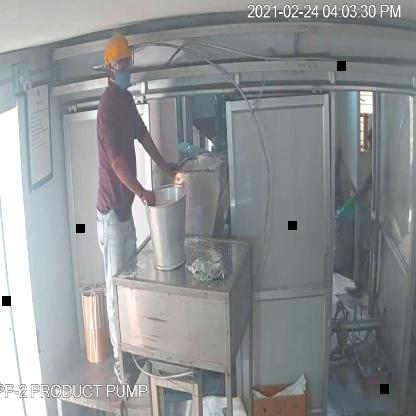helmet: (101, 26, 135, 69)
